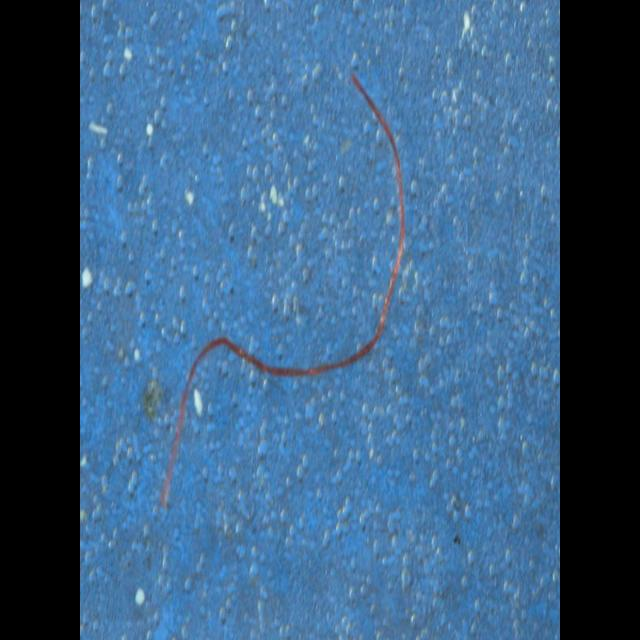Fibre: (158, 68, 406, 510)
